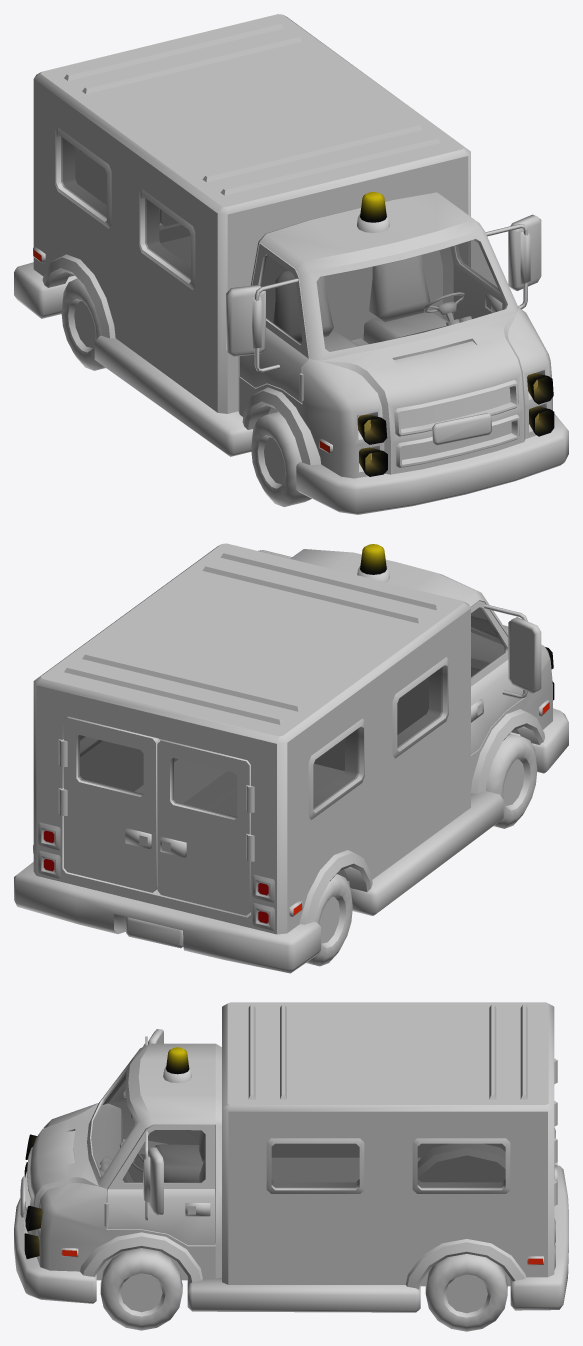
Rendered from TP_Van_02C.fbx.
The picture shows the model from 3 angles, top to bottom: view 1: azimuth 30°, elevation 25°; view 2: azimuth 150°, elevation 25°; view 3: azimuth 270°, elevation 25°; orthographic projection. The views are drawn at different scales.
Parts seen in each view (by area): view 1: TP_Van_02C_Body, TP_Van_02C_Door_F.R, TP_Van_02C_Door_F.L, TP_Van_02C_Wheel_F.R, TP_Van_02C_Headlights, TP_Van_02C_Wheel_R.R, TP_Van_02C_Door_R.R, TP_Van_02C_Warning_Light; view 2: TP_Van_02C_Body, TP_Van_02C_Door_R.L, TP_Van_02C_Door_R.R, TP_Van_02C_Door_F.R, TP_Van_02C_Wheel_F.R, TP_Van_02C_Wheel_R.R, TP_Van_02C_Warning_Light; view 3: TP_Van_02C_Body, TP_Van_02C_Door_F.L, TP_Van_02C_Wheel_F.L, TP_Van_02C_Wheel_R.L, TP_Van_02C_Door_F.R, TP_Van_02C_Headlights, TP_Van_02C_Warning_Light.
Part boxes in pixels (box(x1,y1,x2,y2)): TP_Van_02C_Body: box(14, 14, 568, 514); TP_Van_02C_Door_F.R: box(226, 243, 309, 403); TP_Van_02C_Door_F.L: box(450, 214, 541, 319); TP_Van_02C_Wheel_F.R: box(251, 412, 311, 506); TP_Van_02C_Headlights: box(357, 373, 554, 476); TP_Van_02C_Wheel_R.R: box(61, 278, 105, 370); TP_Van_02C_Door_R.R: box(75, 147, 159, 223); TP_Van_02C_Warning_Light: box(360, 192, 386, 222); TP_Van_02C_Body: box(14, 543, 568, 973); TP_Van_02C_Door_R.L: box(58, 716, 159, 892); TP_Van_02C_Door_R.R: box(157, 739, 254, 915); TP_Van_02C_Door_F.R: box(470, 601, 541, 754); TP_Van_02C_Wheel_F.R: box(486, 733, 537, 828); TP_Van_02C_Wheel_R.R: box(306, 874, 352, 966); TP_Van_02C_Warning_Light: box(360, 544, 386, 574); TP_Van_02C_Body: box(14, 1002, 568, 1312); TP_Van_02C_Door_F.L: box(104, 1125, 214, 1245); TP_Van_02C_Wheel_F.L: box(100, 1248, 182, 1330); TP_Van_02C_Wheel_R.L: box(425, 1254, 507, 1331); TP_Van_02C_Door_F.R: box(108, 1029, 199, 1144); TP_Van_02C_Headlights: box(24, 1134, 42, 1258); TP_Van_02C_Warning_Light: box(166, 1047, 189, 1074).
Bounding box in the file's own units: 3.07 × 2.48 × 5.41.
